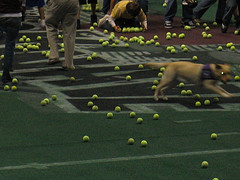tennis ball: (127, 136, 136, 146), (201, 160, 210, 169), (82, 135, 91, 143), (140, 139, 148, 148), (135, 117, 144, 125), (210, 132, 218, 140), (152, 113, 160, 121), (114, 105, 122, 113), (129, 111, 136, 119), (106, 112, 114, 119), (150, 84, 157, 92), (180, 89, 187, 97), (101, 41, 109, 48), (171, 31, 178, 39), (193, 101, 202, 107), (11, 77, 18, 84), (159, 66, 166, 73), (154, 41, 161, 48), (13, 43, 21, 49), (184, 25, 192, 31), (123, 35, 129, 43), (92, 94, 98, 101), (51, 94, 58, 100), (41, 100, 47, 107), (3, 85, 10, 91), (11, 85, 18, 91), (69, 76, 76, 82), (125, 75, 132, 81), (194, 94, 201, 100), (157, 72, 164, 78), (192, 55, 199, 61), (234, 75, 240, 82), (178, 33, 185, 39), (131, 35, 137, 42), (136, 38, 143, 44), (108, 31, 115, 37), (161, 2, 168, 8), (94, 6, 101, 12), (92, 105, 98, 111), (87, 101, 93, 107), (43, 98, 49, 104), (153, 79, 159, 85), (179, 82, 185, 88), (187, 89, 193, 95), (204, 99, 210, 105), (214, 97, 220, 103), (217, 45, 223, 51), (202, 22, 208, 28), (36, 17, 42, 23), (86, 1, 92, 7), (86, 56, 93, 61), (91, 52, 98, 57), (123, 43, 130, 48), (170, 48, 177, 53), (166, 45, 171, 52), (122, 26, 127, 33), (86, 6, 91, 13), (154, 33, 158, 41), (114, 66, 120, 71), (35, 42, 41, 47), (89, 26, 95, 31), (111, 43, 117, 48), (225, 43, 231, 48), (145, 40, 151, 45), (166, 35, 171, 41), (129, 38, 134, 44), (138, 34, 143, 40), (93, 21, 98, 27), (115, 27, 121, 32), (130, 27, 135, 33), (22, 49, 29, 53), (165, 32, 172, 36), (138, 64, 143, 69), (27, 44, 32, 49), (19, 37, 24, 42), (57, 34, 62, 39), (207, 34, 212, 39), (196, 22, 201, 27), (213, 21, 218, 26), (205, 26, 210, 31), (1, 53, 5, 59), (45, 53, 51, 57), (25, 37, 31, 41), (36, 36, 42, 40), (98, 39, 104, 43), (201, 31, 207, 35), (140, 40, 144, 46), (104, 28, 108, 34), (127, 26, 130, 34), (136, 26, 139, 34), (82, 6, 86, 12), (20, 35, 27, 38), (46, 50, 51, 54), (47, 44, 51, 49), (60, 48, 65, 52), (231, 46, 235, 51), (203, 34, 208, 38), (170, 45, 175, 49), (150, 39, 155, 43), (109, 36, 114, 40), (41, 51, 47, 54), (235, 30, 238, 36), (34, 46, 39, 49), (120, 35, 123, 40), (213, 177, 218, 180), (1, 72, 3, 78), (61, 43, 64, 47), (62, 34, 64, 40), (184, 47, 187, 51), (140, 26, 142, 31)
